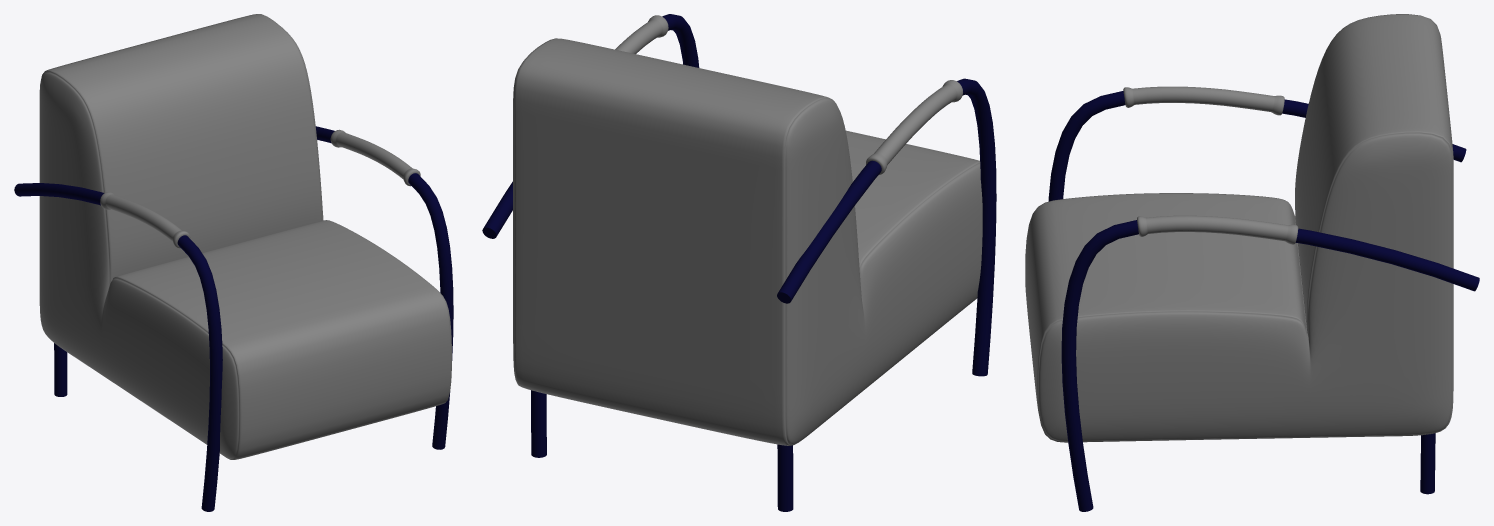
The model's file is chair1.FBX.
3 renders of one model, left to right at view 1: azimuth 30°, elevation 25°; view 2: azimuth 150°, elevation 25°; view 3: azimuth 270°, elevation 25°, orthographic. The views are drawn at different scales.
Parts seen in each view (by area): view 1: Box2141; view 2: Box2141; view 3: Box2141.
Boxes of the visible parts, x1,y1,x2,y2 form: Box2141: [14, 14, 453, 511]; Box2141: [482, 14, 996, 511]; Box2141: [1025, 14, 1479, 511].
Size of the model in its own units: 641 by 766 by 861.
